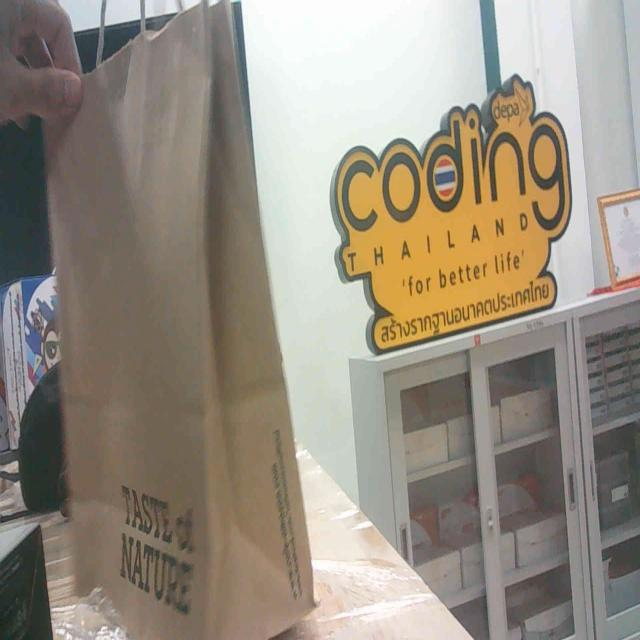bag: (19, 0, 305, 603)
